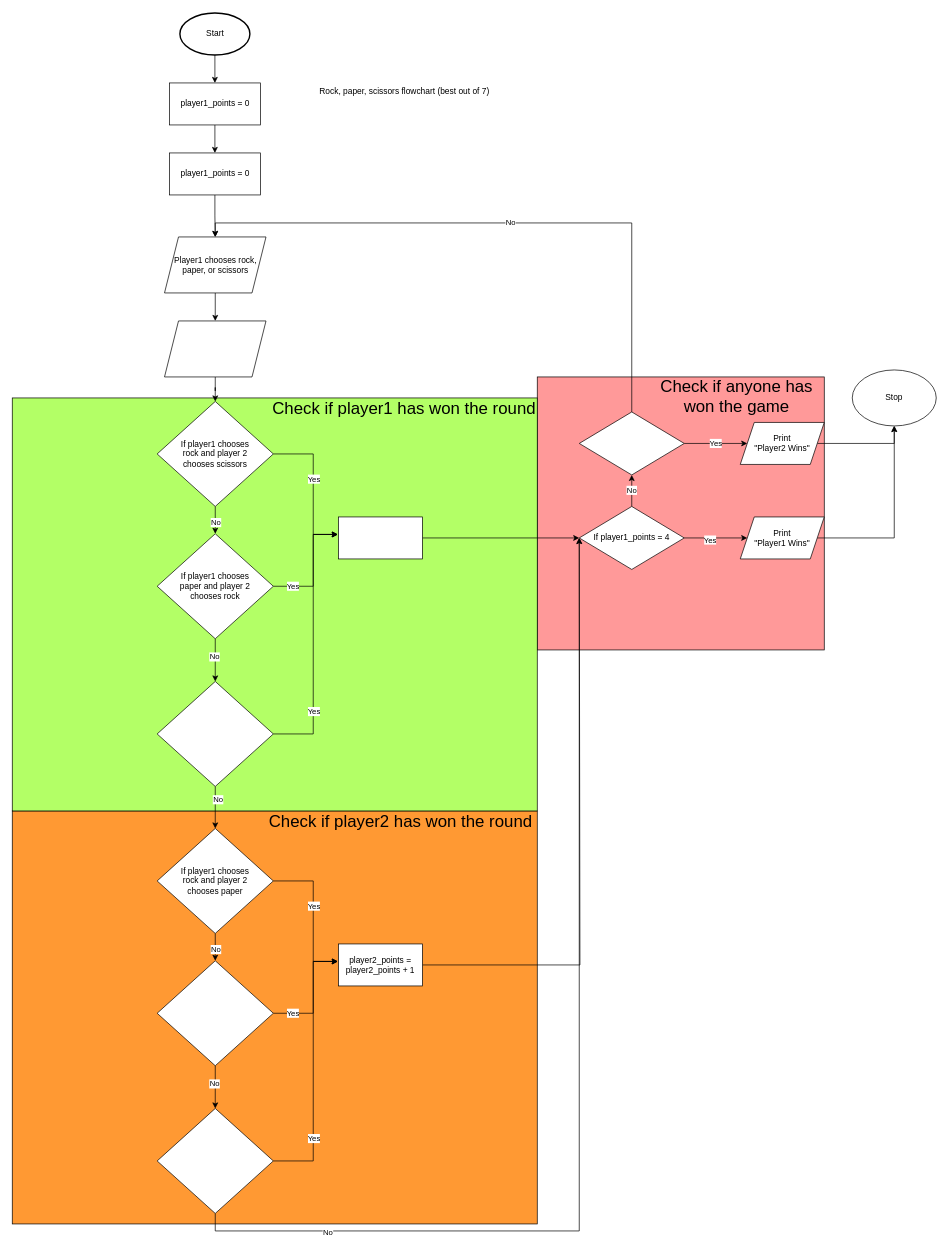
The diagram is 949 pixels wide and 1249 high, and some of its shapes have lost their labels. Each missing label, with the centre of its shape:
"If player1 chooses paper and player 2 chooses scissors" belongs at point (214, 1013).
"If player1 chooses scissors and player 2 chooses paper" belongs at point (214, 733).
"If player1 chooses scissors and player 2 chooses rock" belongs at point (214, 1160).
"If player2_points = 4" belongs at point (631, 443).
"player1_points = player1_points + 1" belongs at point (380, 537).
"Player2 chooses rock, paper, or scissors" belongs at point (215, 348).
